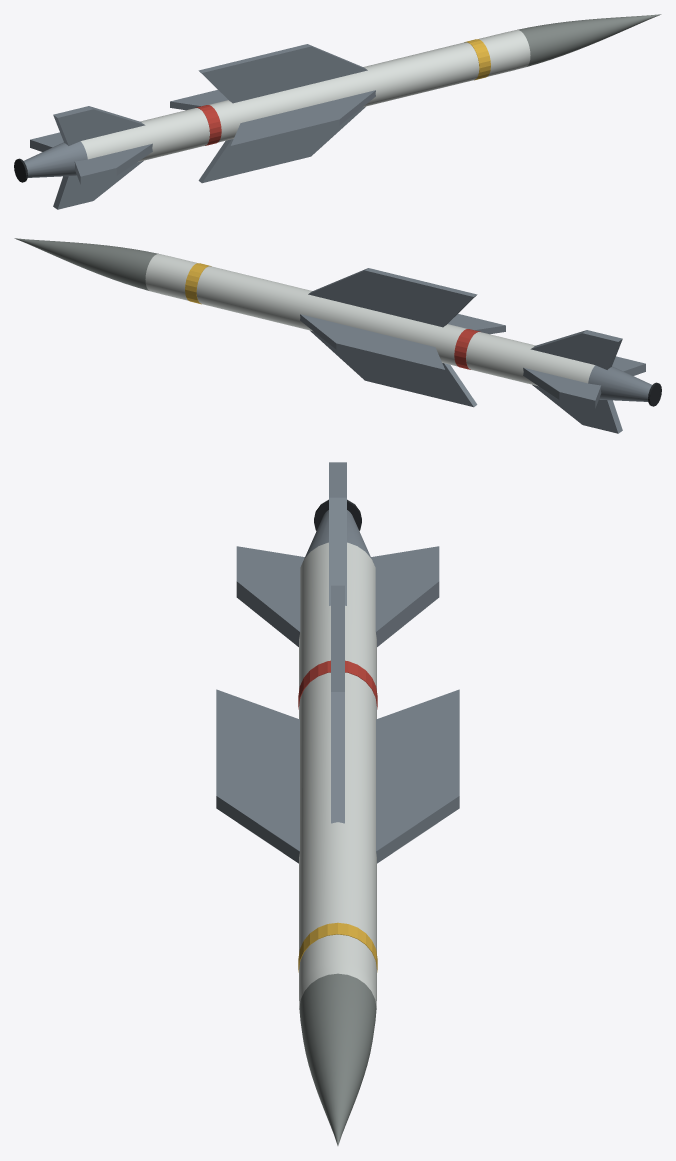
Rendered from pla_pl15.glb.
3 renders of one model, top to bottom at view 1: azimuth 30°, elevation 25°; view 2: azimuth 150°, elevation 25°; view 3: azimuth 270°, elevation 25°, orthographic. The views are drawn at different scales.
Parts seen in each view (by area): view 1: titanium, missile_body, seeker, hazard_red, marking_yellow; view 2: titanium, missile_body, seeker, hazard_red, marking_yellow; view 3: titanium, missile_body, seeker, marking_yellow.
Part boxes in pixels (bbox=[...]): titanium: bbox=[23, 44, 375, 209]; missile_body: bbox=[81, 30, 530, 162]; seeker: bbox=[517, 14, 661, 66]; hazard_red: bbox=[195, 105, 221, 145]; marking_yellow: bbox=[464, 39, 490, 80]; titanium: bbox=[300, 268, 652, 433]; missile_body: bbox=[145, 254, 594, 386]; seeker: bbox=[14, 238, 158, 290]; hazard_red: bbox=[454, 329, 480, 369]; marking_yellow: bbox=[185, 263, 211, 304]; titanium: bbox=[216, 462, 459, 863]; missile_body: bbox=[299, 542, 376, 1007]; seeker: bbox=[299, 973, 376, 1145]; marking_yellow: bbox=[298, 922, 377, 972].
Size of the model in its own units: 10 by 1.64 by 1.64.
